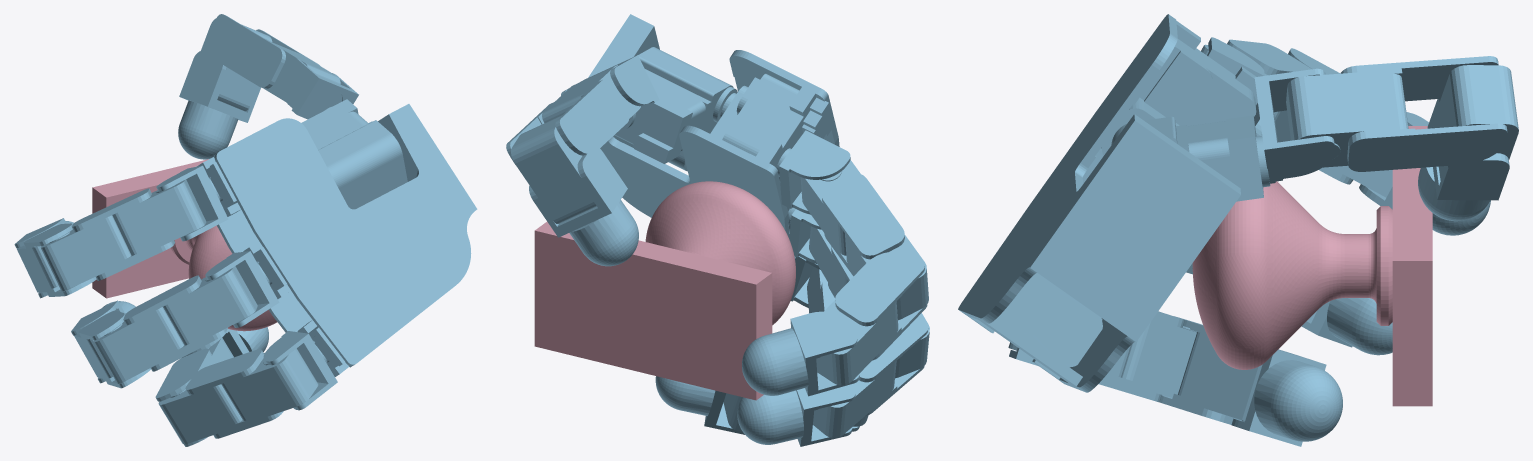
The picture shows the model from 3 angles, left to right: view 1: azimuth 30°, elevation 25°; view 2: azimuth 150°, elevation 25°; view 3: azimuth 270°, elevation 25°; orthographic projection. The views are drawn at different scales.
Parts seen in each view (by area): view 1: world; view 2: world; view 3: world.
Part boxes in pixels (box(x1,y1,x2,y2)): world: box(14, 14, 477, 446); world: box(506, 14, 929, 446); world: box(958, 14, 1518, 446).
Size of the model in its own units: 0.1839 by 0.1565 by 0.1752.
